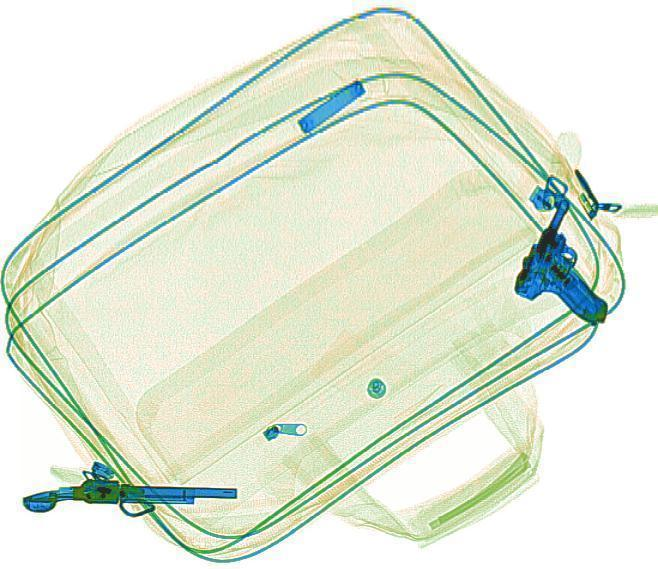Gun: (501, 193, 653, 329), (19, 474, 238, 513)
